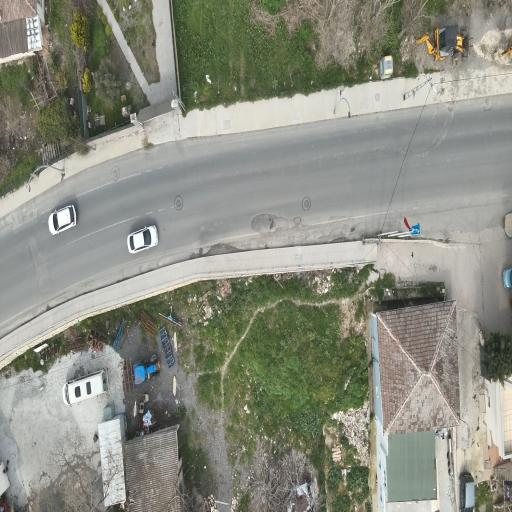car: (415, 26, 469, 60), (62, 369, 108, 404), (48, 205, 77, 235), (133, 355, 160, 385), (128, 226, 157, 253), (459, 473, 475, 512), (503, 269, 511, 288)
